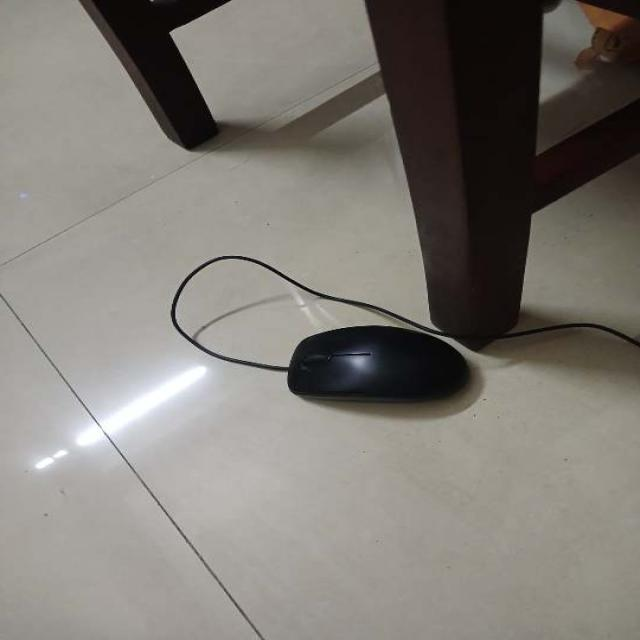mouse: (279, 323, 466, 403)
